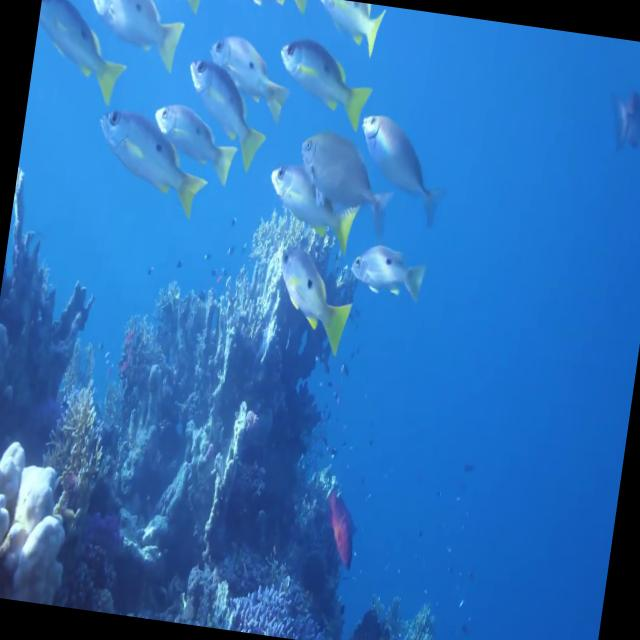fish: (82, 98, 217, 245), (287, 122, 408, 263), (177, 44, 281, 184), (346, 104, 452, 235), (86, 96, 211, 206), (149, 80, 249, 206), (195, 28, 294, 150), (269, 237, 360, 366), (270, 28, 381, 133), (28, 0, 134, 107), (264, 155, 360, 246), (76, 0, 189, 77), (342, 226, 436, 308), (309, 464, 376, 576), (592, 61, 640, 160), (311, 0, 394, 56)
